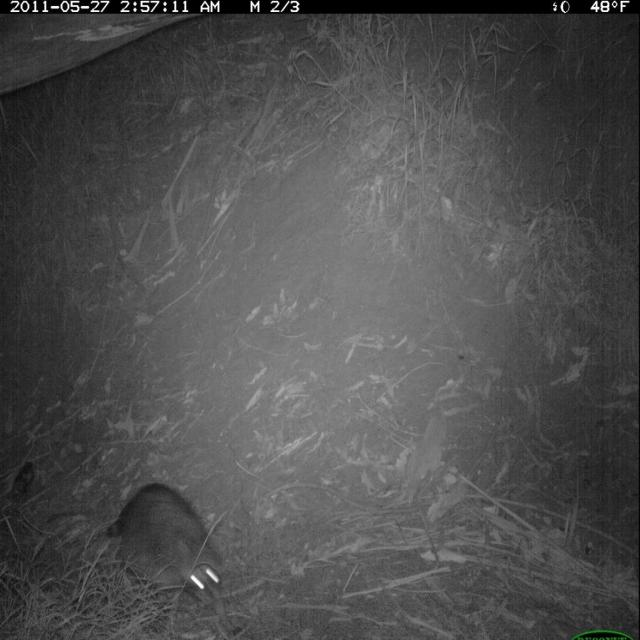raccoon: (102, 476, 243, 609)
